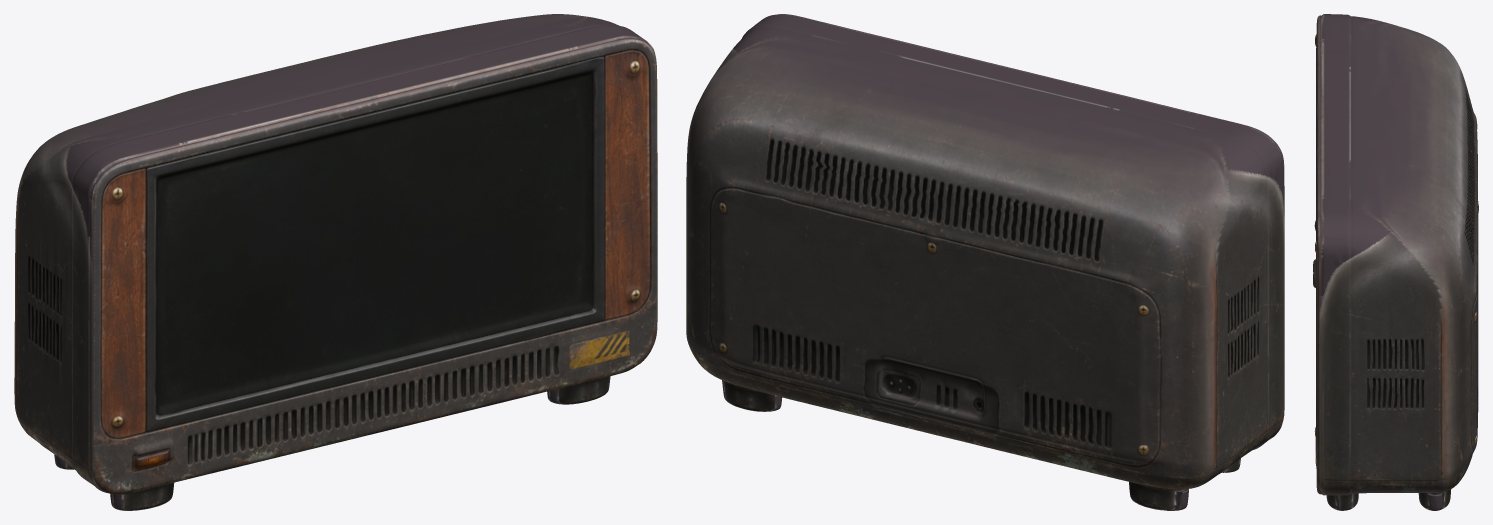
Rendered from apartment-tv.glb.
3 renders of one model, left to right at view 1: azimuth 30°, elevation 25°; view 2: azimuth 150°, elevation 25°; view 3: azimuth 270°, elevation 25°, orthographic. The views are drawn at different scales.
Parts seen in each view (by area): view 1: ZANG apartment television; view 2: ZANG apartment television; view 3: ZANG apartment television.
Boxes of the visible parts, x1,y1,x2,y2 form: ZANG apartment television: [14, 14, 657, 510]; ZANG apartment television: [686, 14, 1284, 510]; ZANG apartment television: [1313, 14, 1478, 510].
Size of the model in its own units: 2.31 by 1.4 by 0.7101.
1 material, 1 textured.
